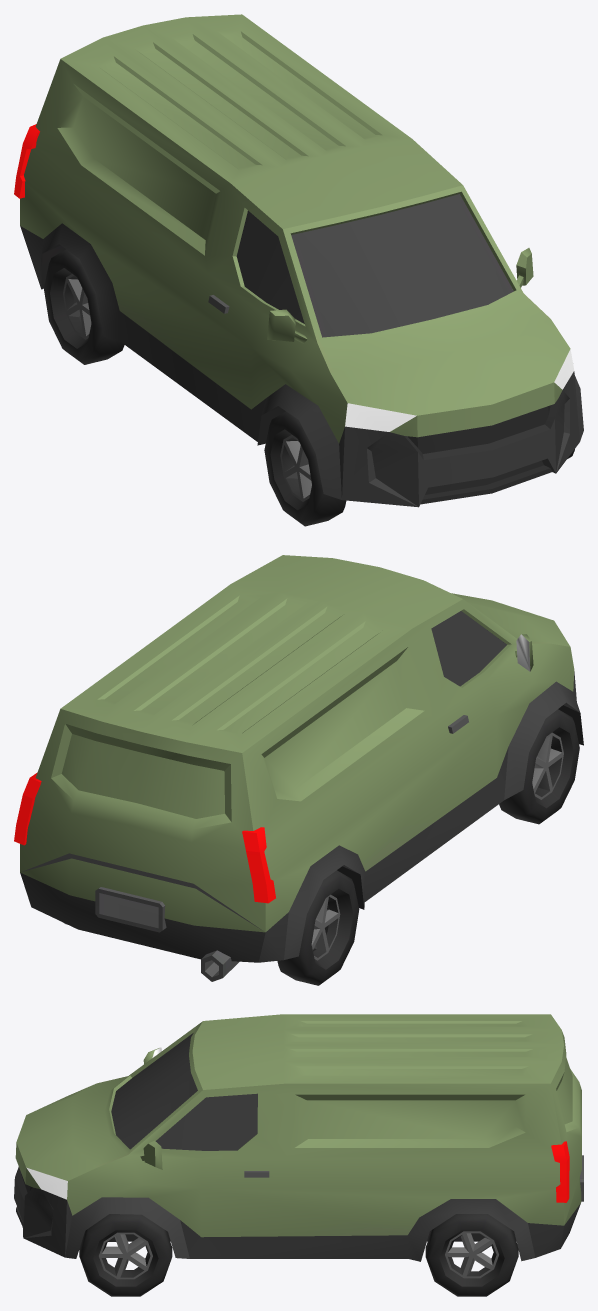
Rendered from van.glb.
3 renders of one model, top to bottom at view 1: azimuth 30°, elevation 25°; view 2: azimuth 150°, elevation 25°; view 3: azimuth 270°, elevation 25°, orthographic. The views are drawn at different scales.
Visible parts, largest first — view 1: van, wheel1.001; view 2: van, wheel1.001; view 3: van, wheel1.001.
Part boxes in pixels (x1,y1,x2,y2): van: [14, 14, 583, 507]; wheel1.001: [44, 249, 574, 526]; van: [14, 555, 583, 981]; wheel1.001: [63, 709, 579, 985]; van: [14, 1014, 583, 1261]; wheel1.001: [79, 1214, 518, 1296].
Bounding box in the file's own units: 2.12 × 1.96 × 4.98.
Materials: 4 (4 with a texture image).
